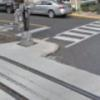crosswalks: (46, 28, 86, 44), (81, 20, 100, 37)
